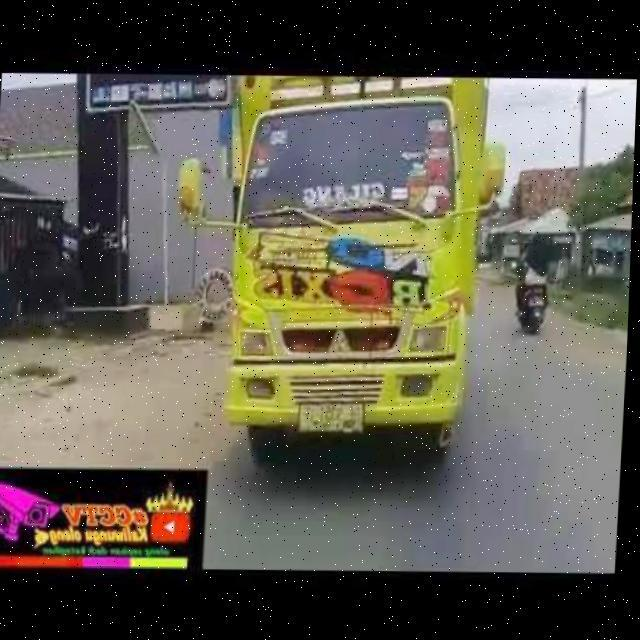truck: (159, 56, 510, 485)
